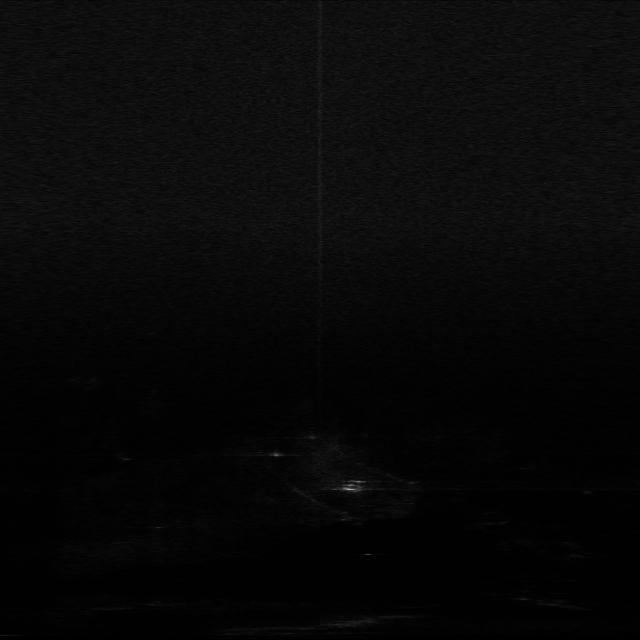rov: (342, 476, 371, 495)
